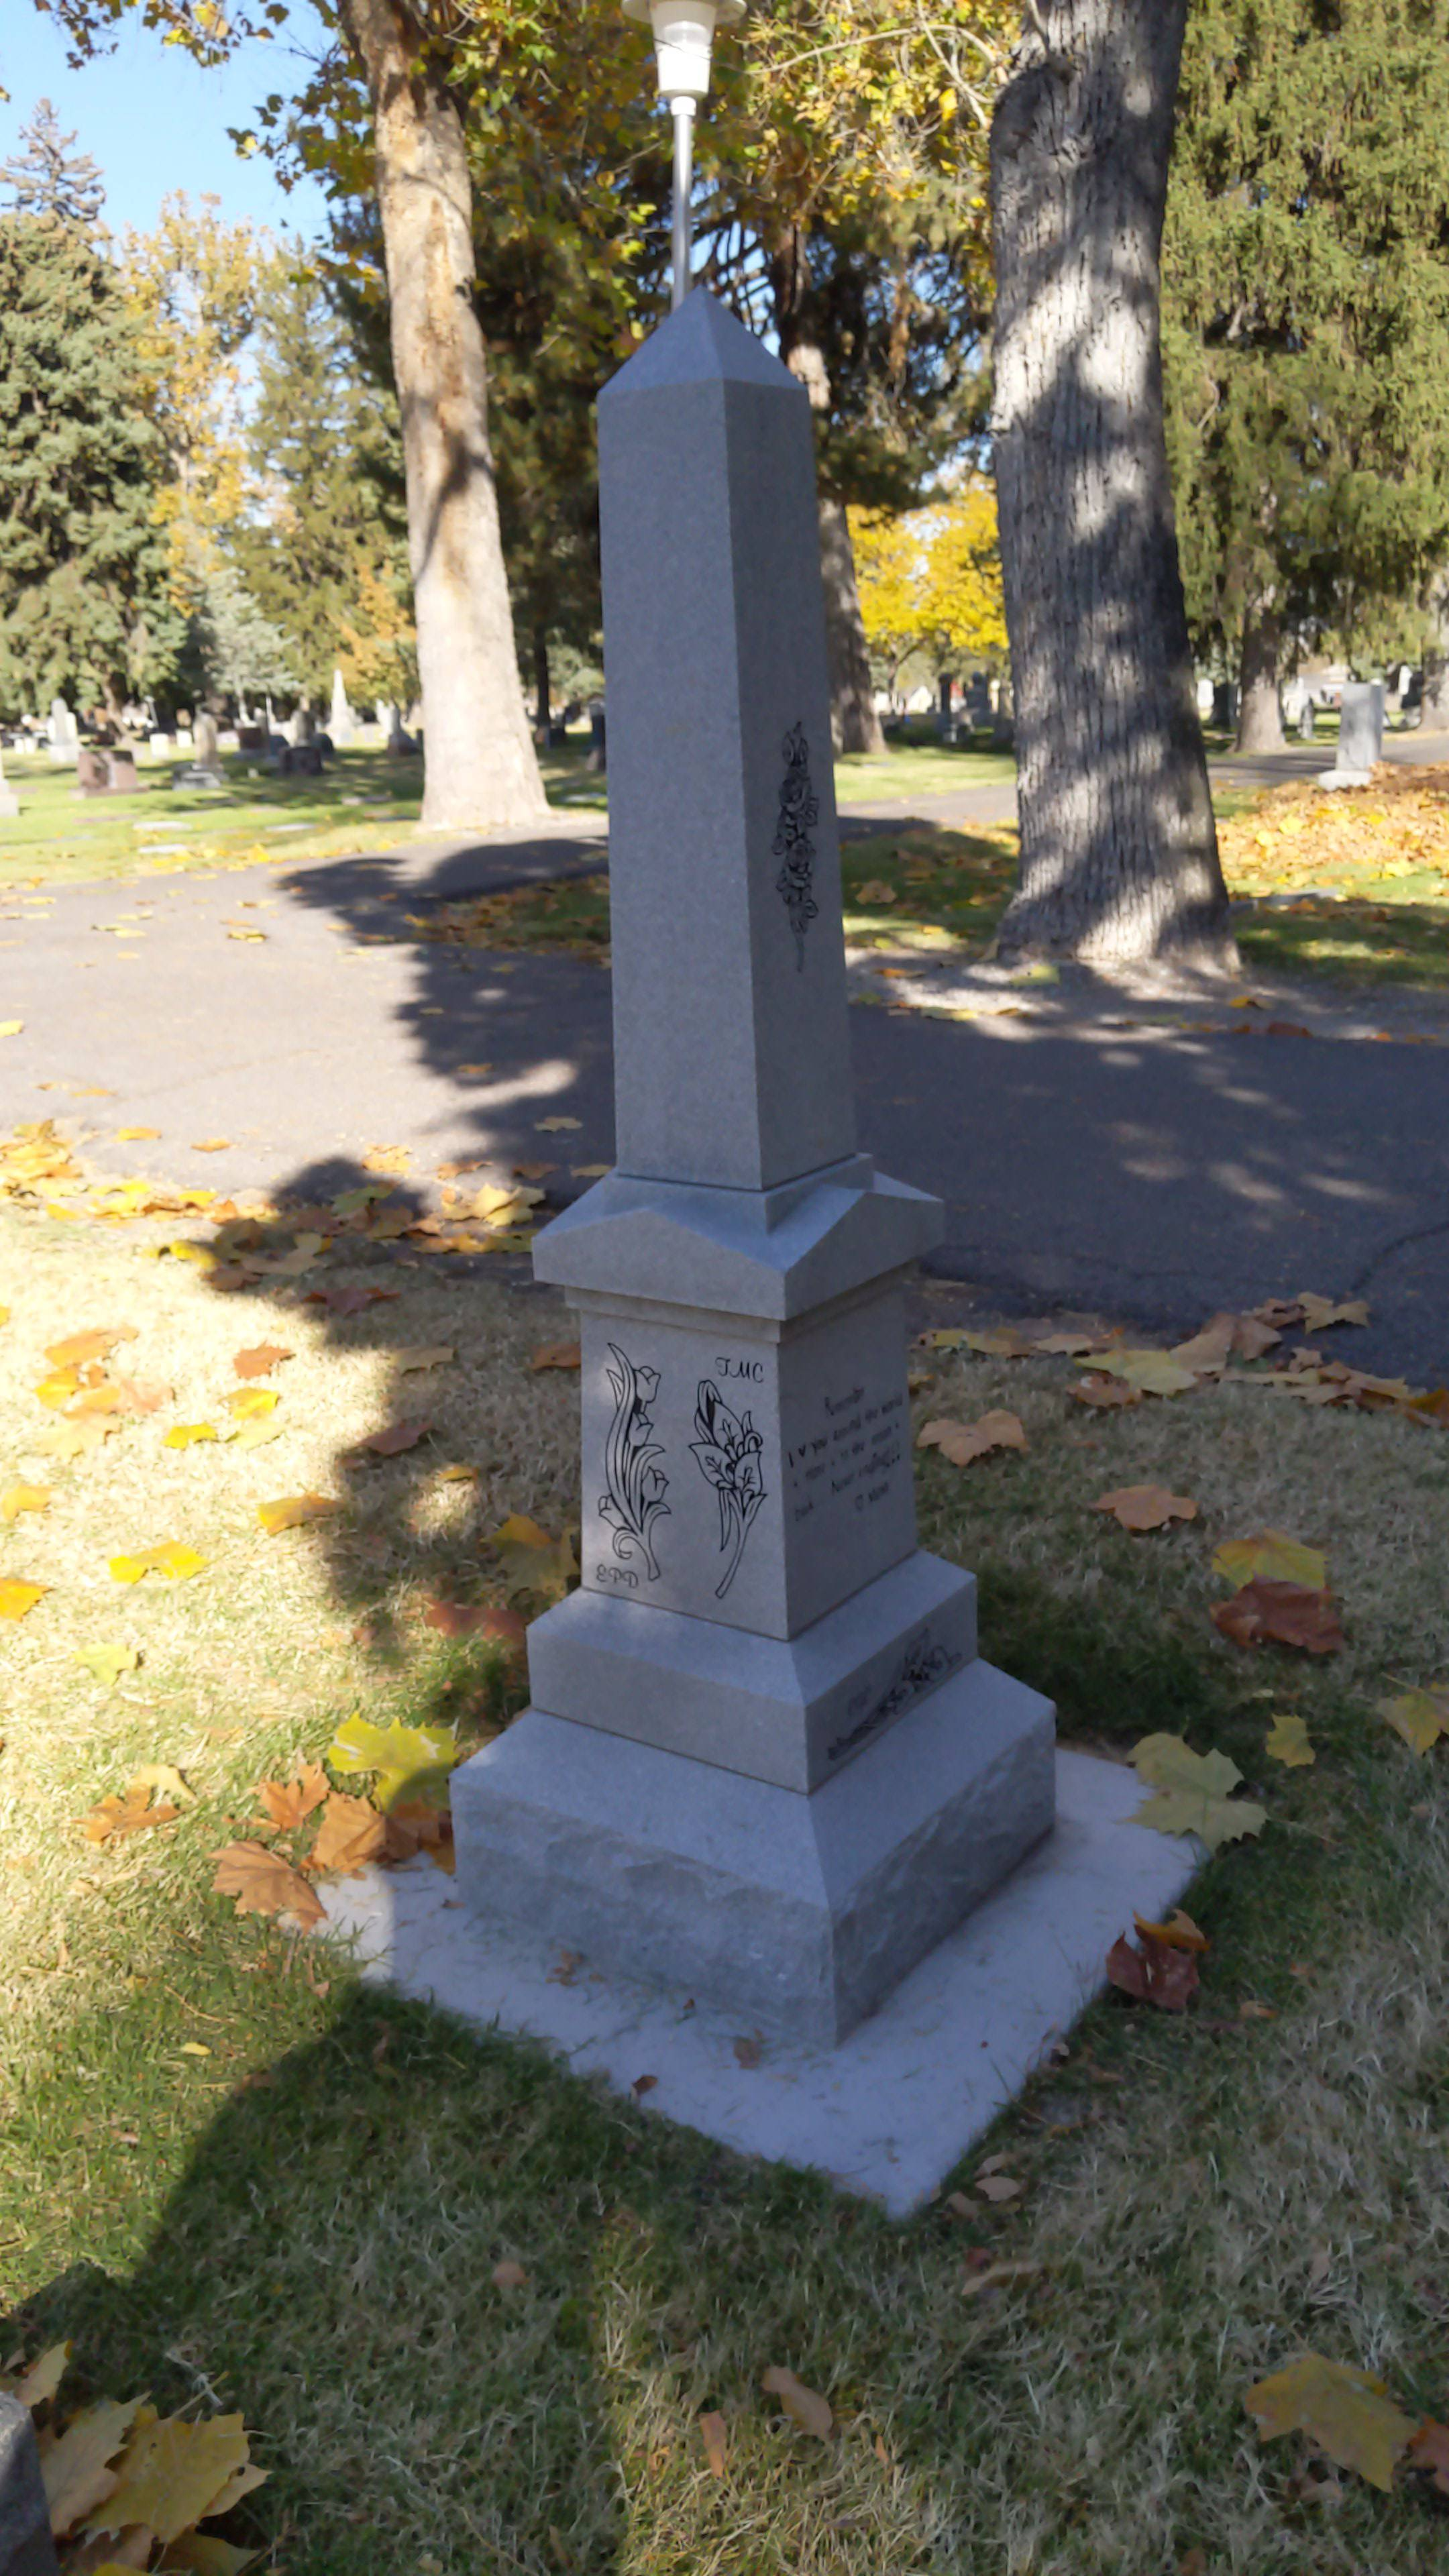obelisk: (520, 287, 970, 1778)
